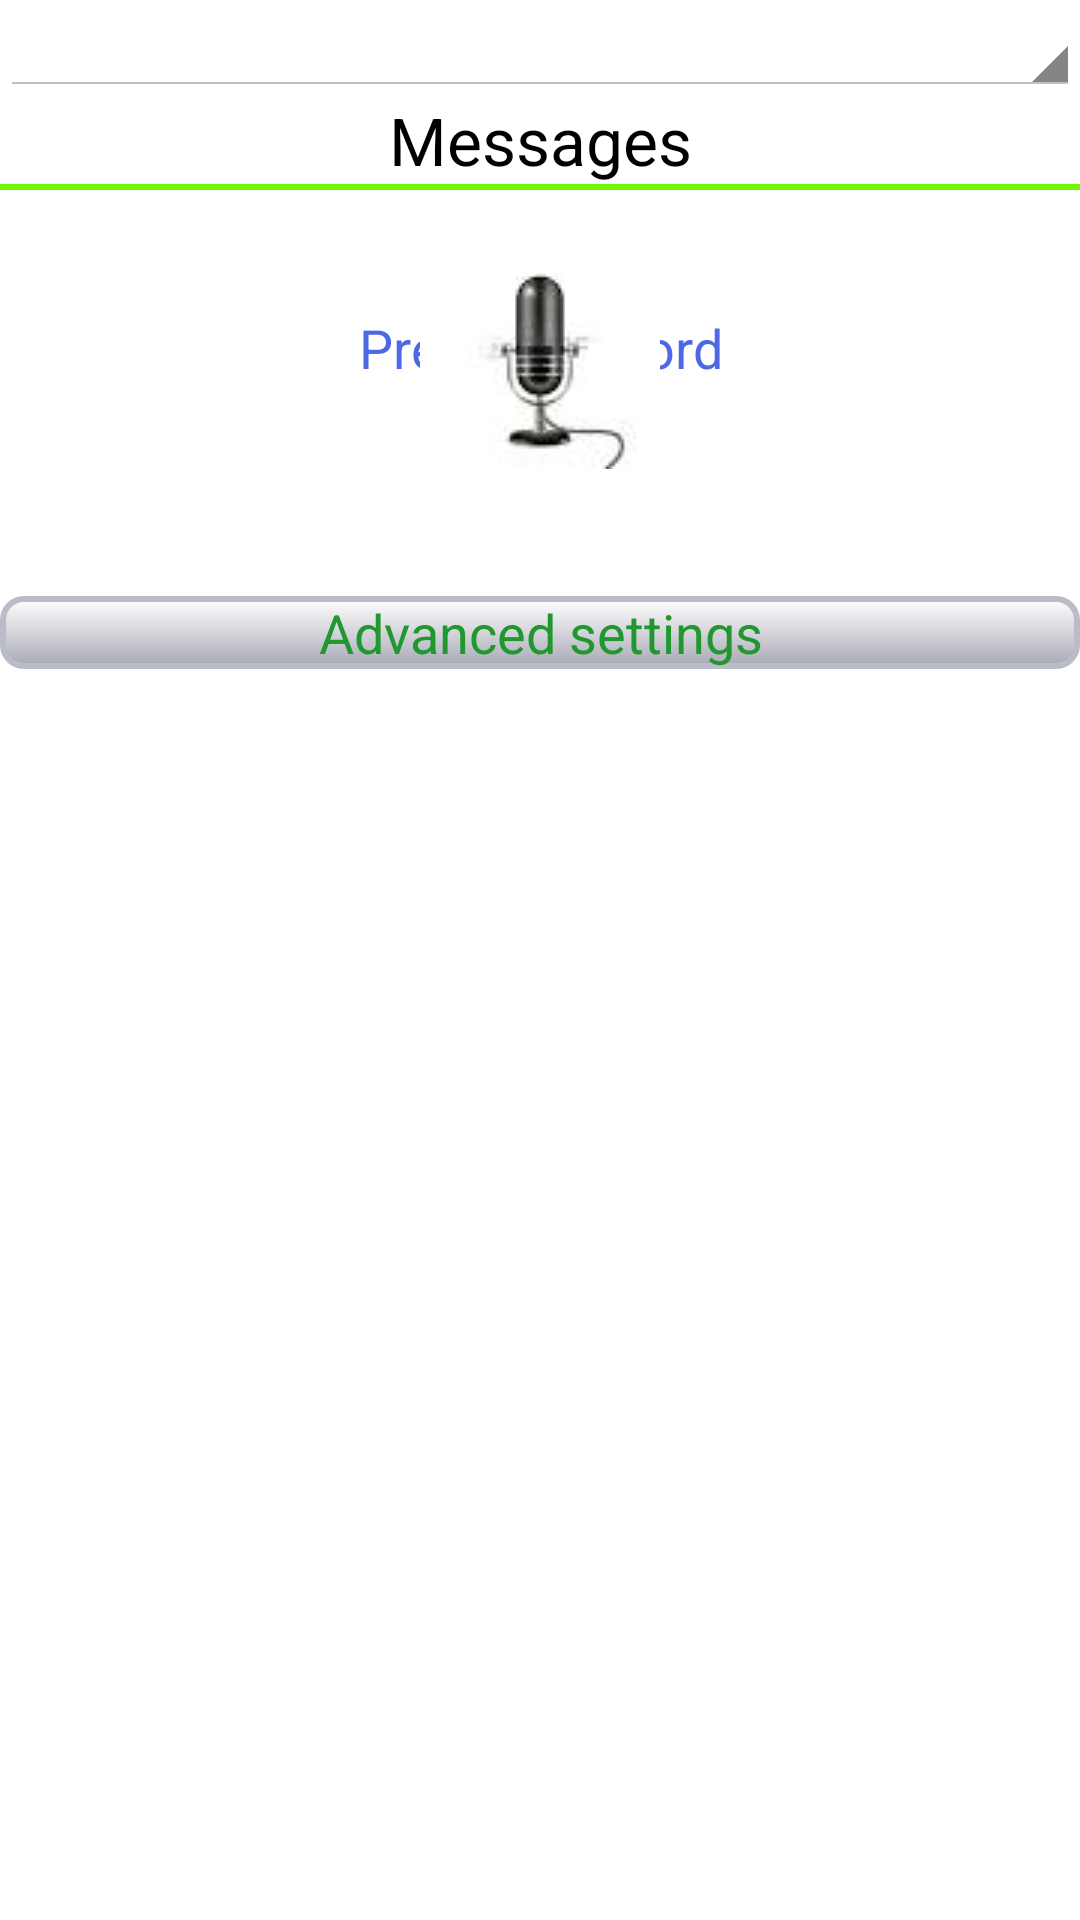

Icon click points for this 1080x1920 phone screenshot, format (x=x, y=y):
mic: (x=558, y=371)
